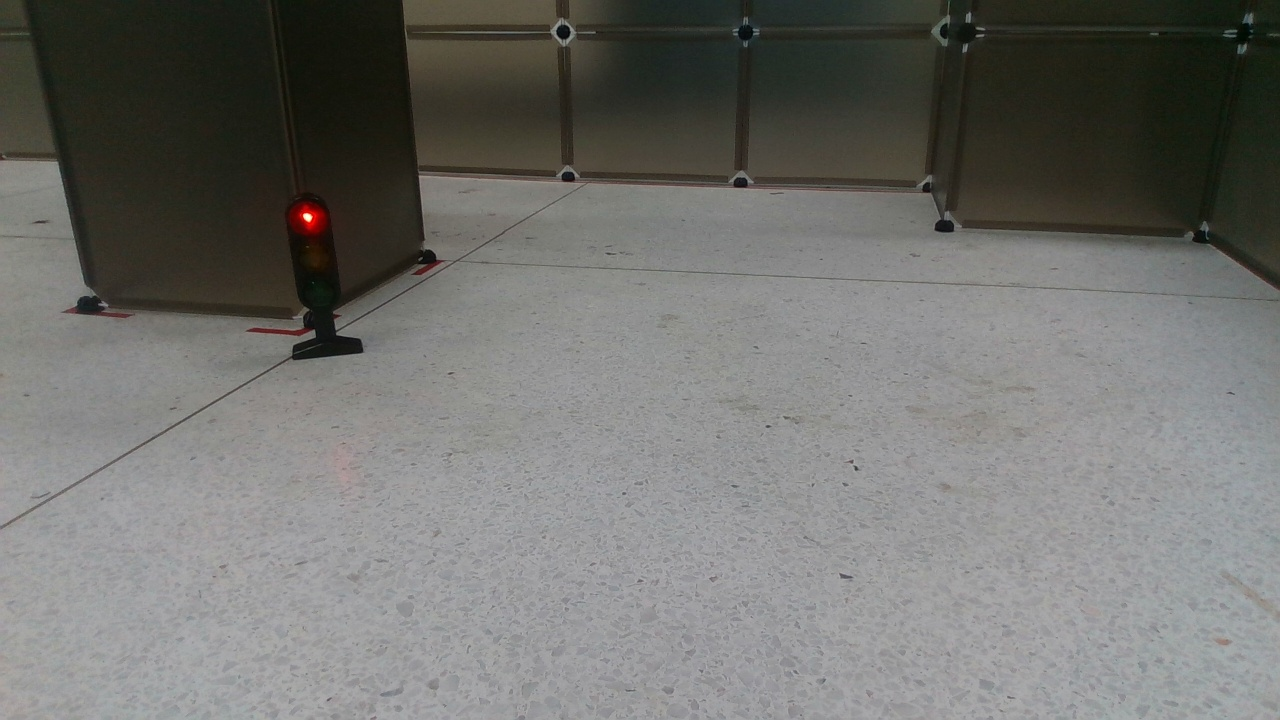Red traffic light: (276, 195, 368, 365)
